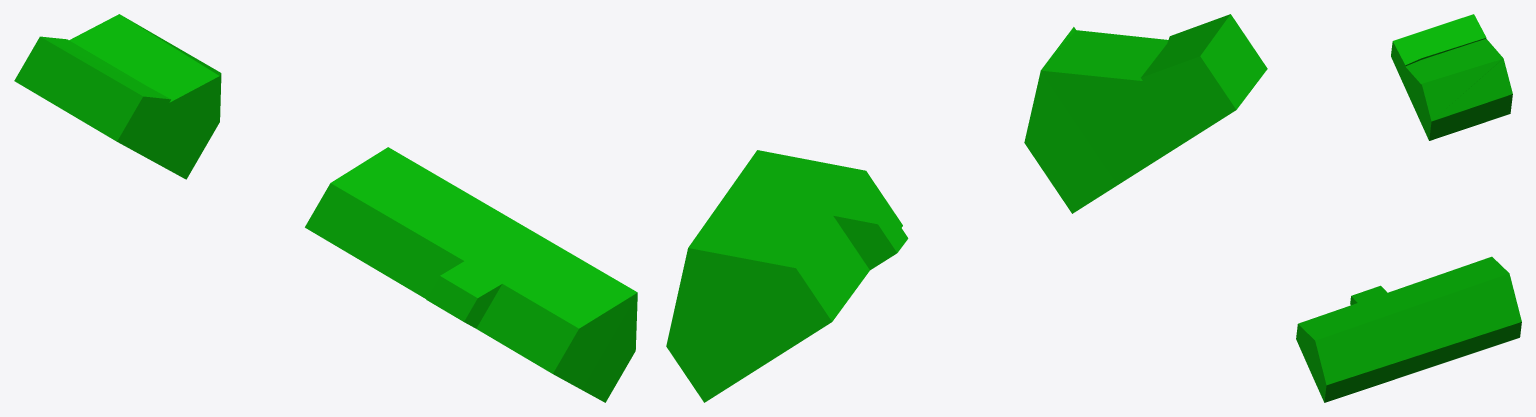
3 renders of one model, left to right at view 1: azimuth 30°, elevation 25°; view 2: azimuth 150°, elevation 25°; view 3: azimuth 270°, elevation 25°, orthographic. The views are drawn at different scales.
Visible parts, largest first — view 1: mesh; view 2: mesh; view 3: mesh.
Boxes of the visible parts, x1,y1,x2,y2 form: mesh: (14,14,637,402); mesh: (666,14,1267,402); mesh: (1296,14,1521,402).
Bounding box in the file's own units: 27.87 × 20.47 × 16.82.
